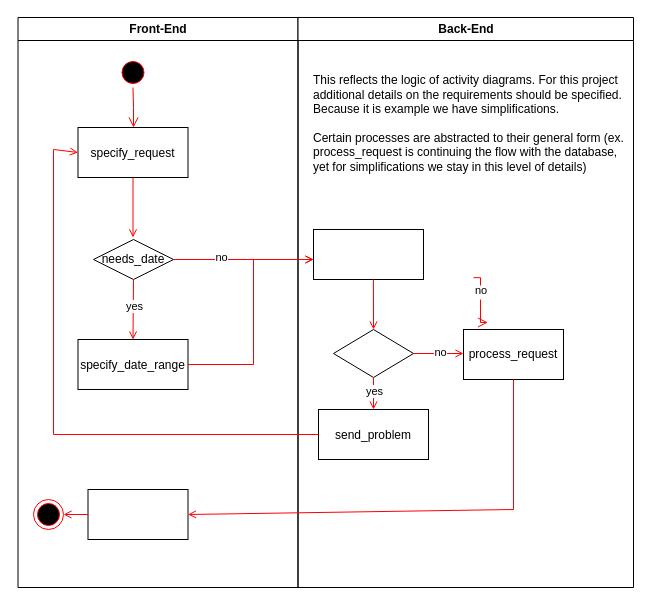
Image size: 651x605. Some labels were removed from this diagram. The centre of each missing label's shape, as x and y in pixels:
"check_request" belongs at point 368,254.
"problems" belongs at point 373,353.
"show_results" belongs at point 137,514.
